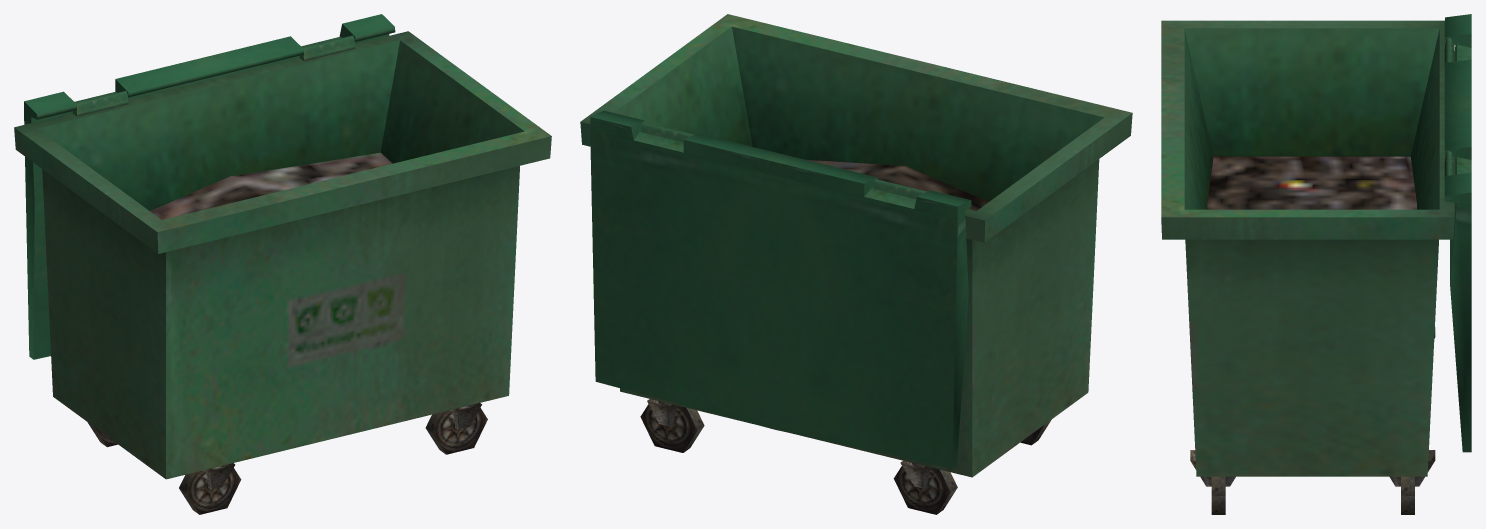
Rendered from MiniBR_Trash001.fbx.
3 views of the same model, side by side, from view 1: azimuth 30°, elevation 25°; view 2: azimuth 150°, elevation 25°; view 3: azimuth 270°, elevation 25° (orthographic). The views are drawn at different scales.
Parts seen in each view (by area): view 1: MiniBR_Trash001; view 2: MiniBR_Trash001; view 3: MiniBR_Trash001.
Boxes of the visible parts, x1,y1,x2,y2 form: MiniBR_Trash001: (14, 14, 551, 514); MiniBR_Trash001: (580, 14, 1132, 514); MiniBR_Trash001: (1161, 14, 1471, 514).
Size of the model in its own units: 140 by 93.31 by 113.
1 material, 1 textured.
